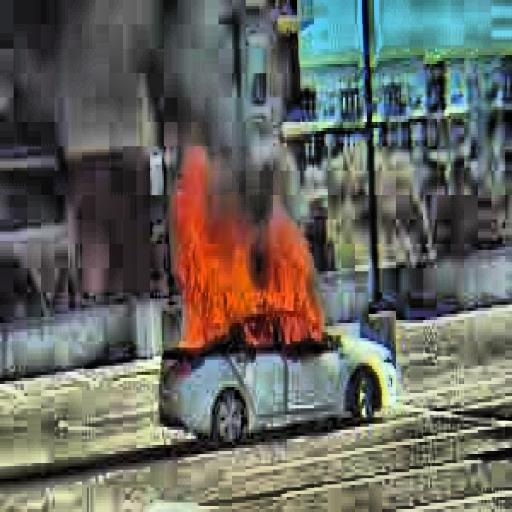fire: (164, 156, 341, 362)
